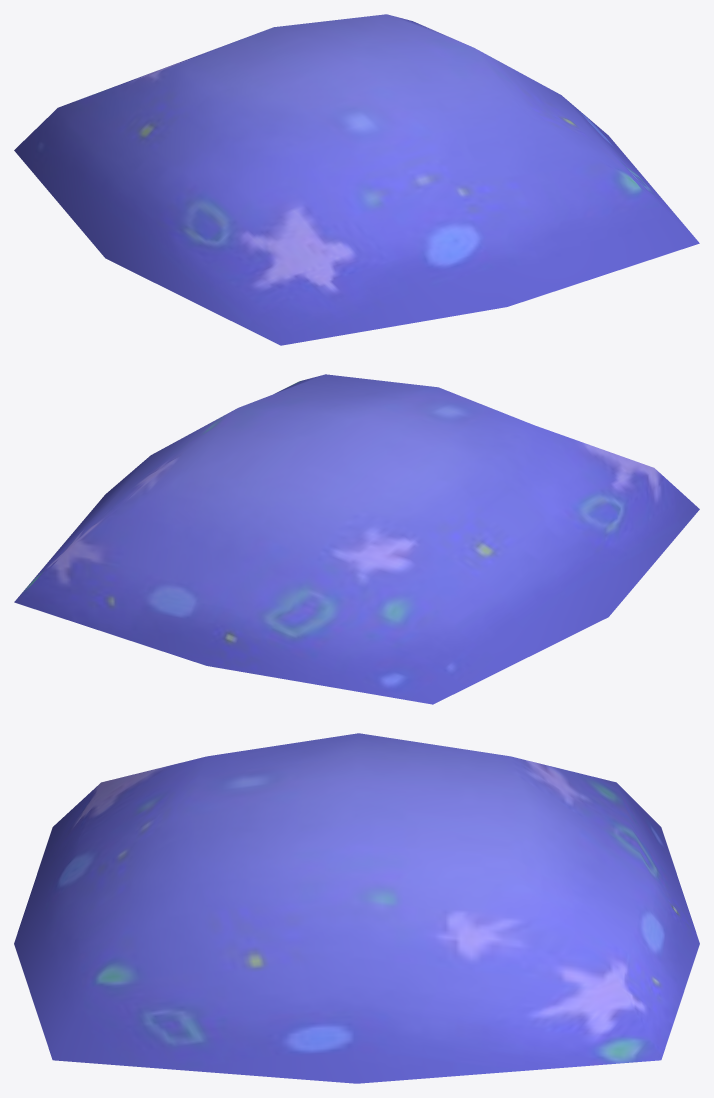
Rendered from tilestone.fbx.
3 renders of one model, top to bottom at view 1: azimuth 30°, elevation 25°; view 2: azimuth 150°, elevation 25°; view 3: azimuth 270°, elevation 25°, orthographic. The views are drawn at different scales.
Visible parts, largest first — view 1: Cube; view 2: Cube; view 3: Cube.
Boxes of the visible parts, x1,y1,x2,y2 form: Cube: [14, 14, 699, 345]; Cube: [14, 374, 699, 704]; Cube: [14, 733, 699, 1083].
Size of the model in its own units: 97.51 by 25.16 by 101.
1 material, 1 textured.
